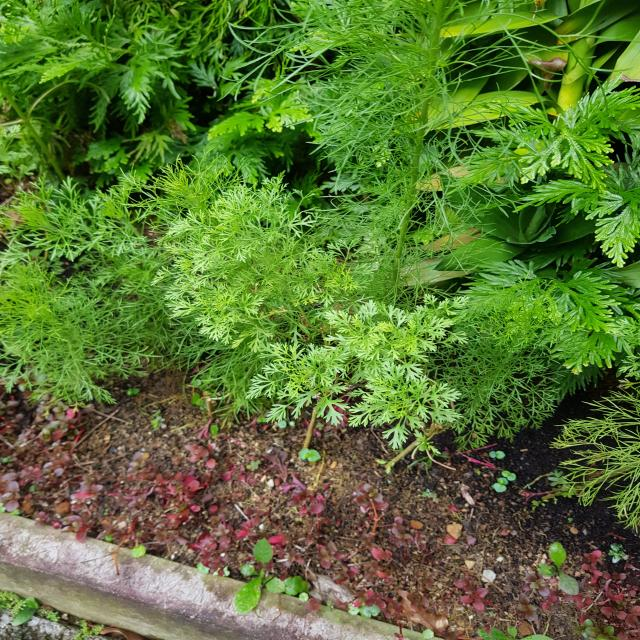Dill: (278, 3, 446, 455), (5, 181, 318, 419)
